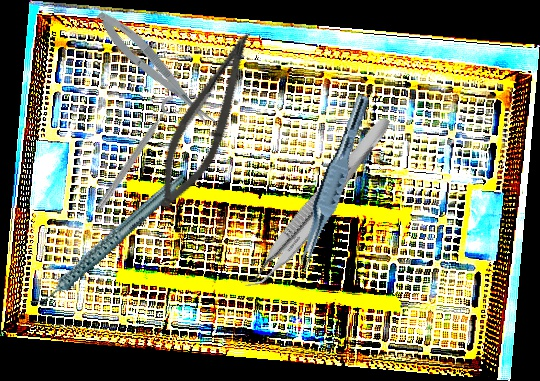Fixation Ring: (92, 92, 187, 218)
Handpiece: (10, 173, 205, 310)
Micro Scissor: (146, 19, 264, 219), (90, 3, 222, 138)
Tissue Forceps: (239, 106, 395, 300), (292, 90, 372, 277)
